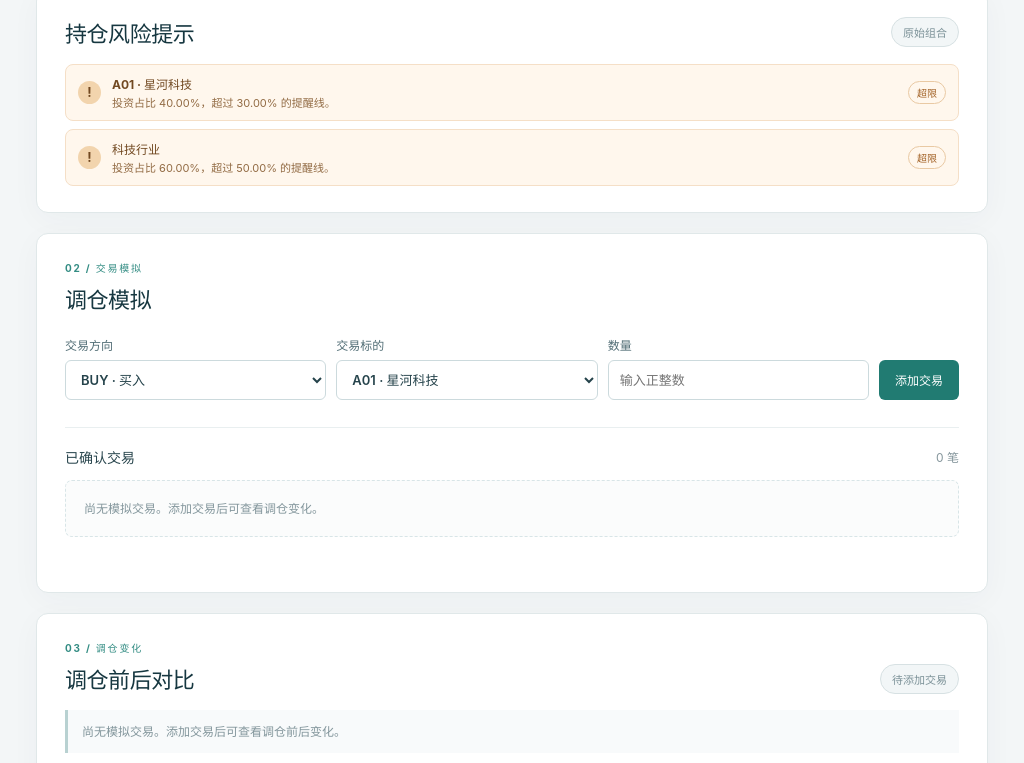
Test case: front-end state flow › refreshes duplicate-name plans and opens a read-only recalculated result
The width and height of the screenshot is (1024, 763).
(page scrolled)
Select "SELL · 卖出" in the dropdown labelled "交易方向" at (196, 380), box [65,360,326,400]
Type "100" into the number field labelled "数量" at (738, 380), box [608,360,869,400]
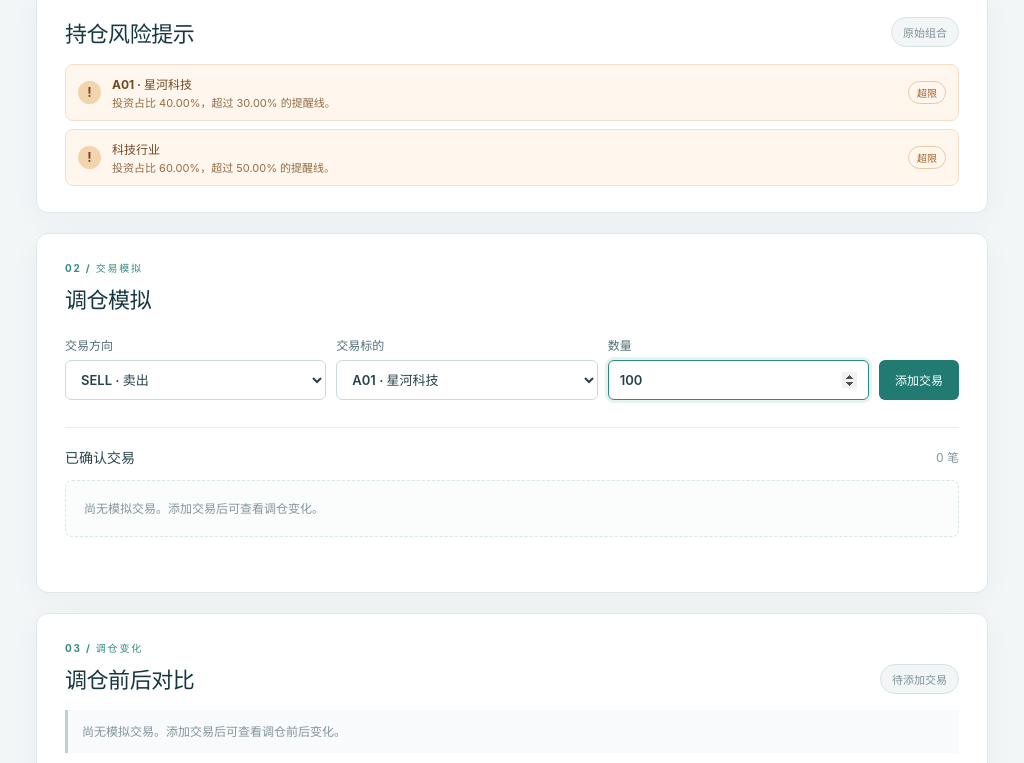
Click the button "添加交易" at (919, 380), box [879,360,959,400]
(page scrolled)
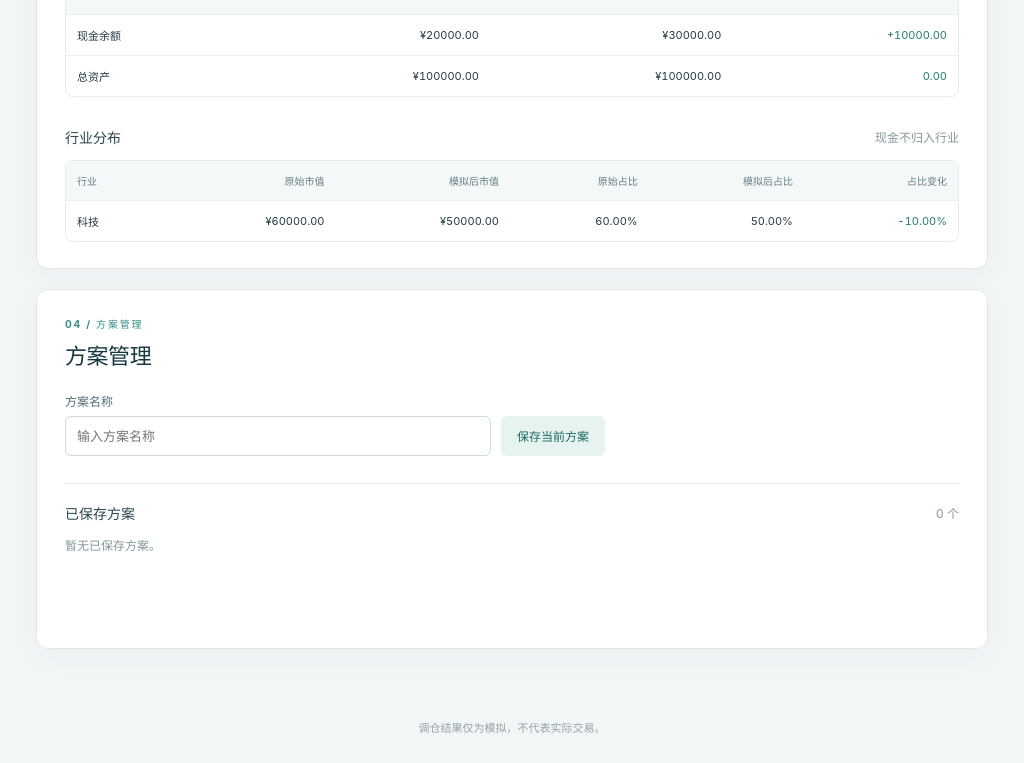
Type "调仓方案" into the field labelled "方案名称" at (278, 436), box [65,416,491,456]
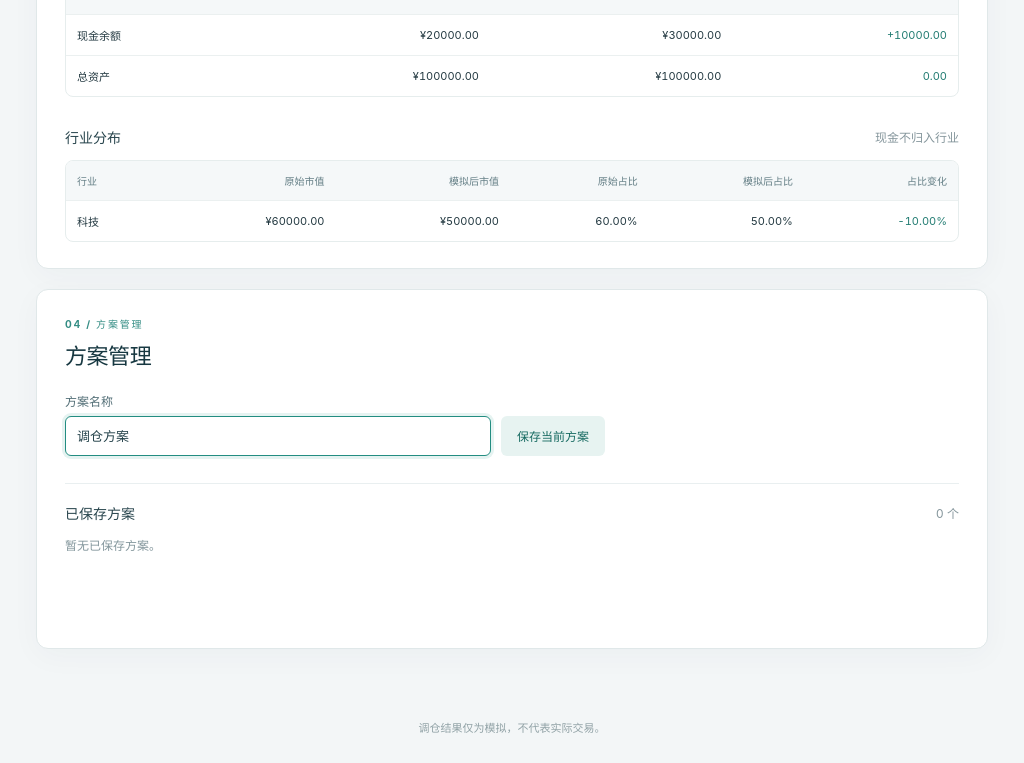
Click the button "保存当前方案" at (553, 436), box [501,416,605,456]
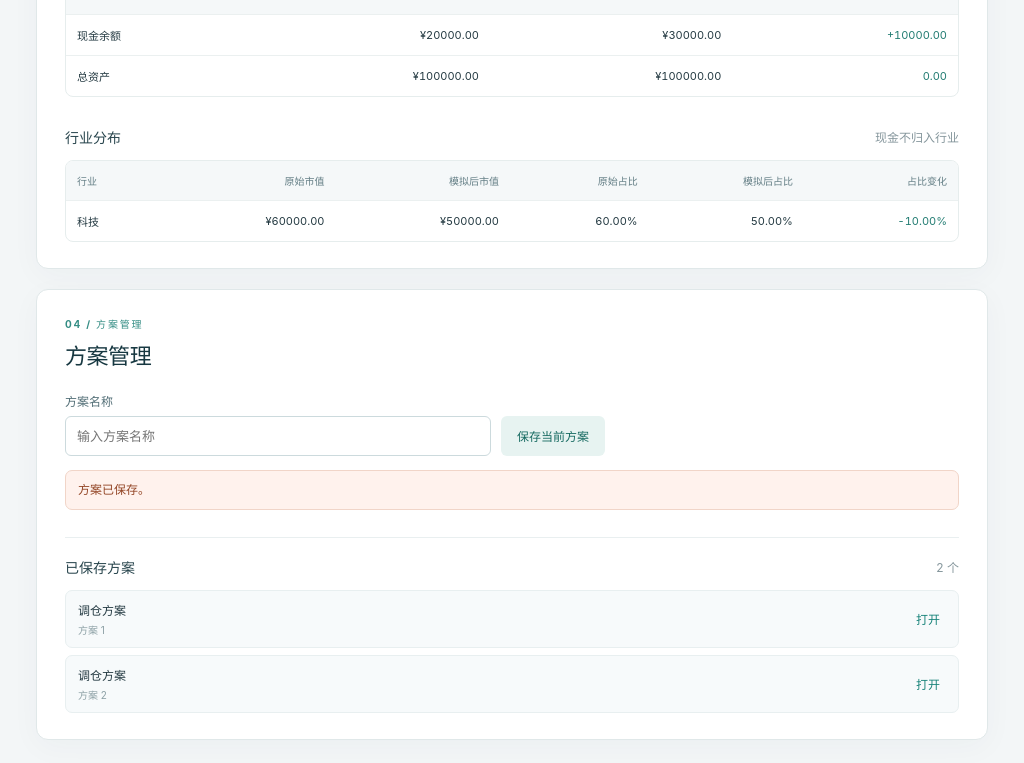
Now the text "方案已保存。" is shown, box [65,470,959,510]
Now the text "调仓方案" is shown 2 times, box [78,601,126,618]; [78,666,126,683]
Now the text "方案 1" is shown, box [78,624,105,636]
Click the 1st button "打开" at (928, 619), box [910,604,946,634]
(page scrolled)
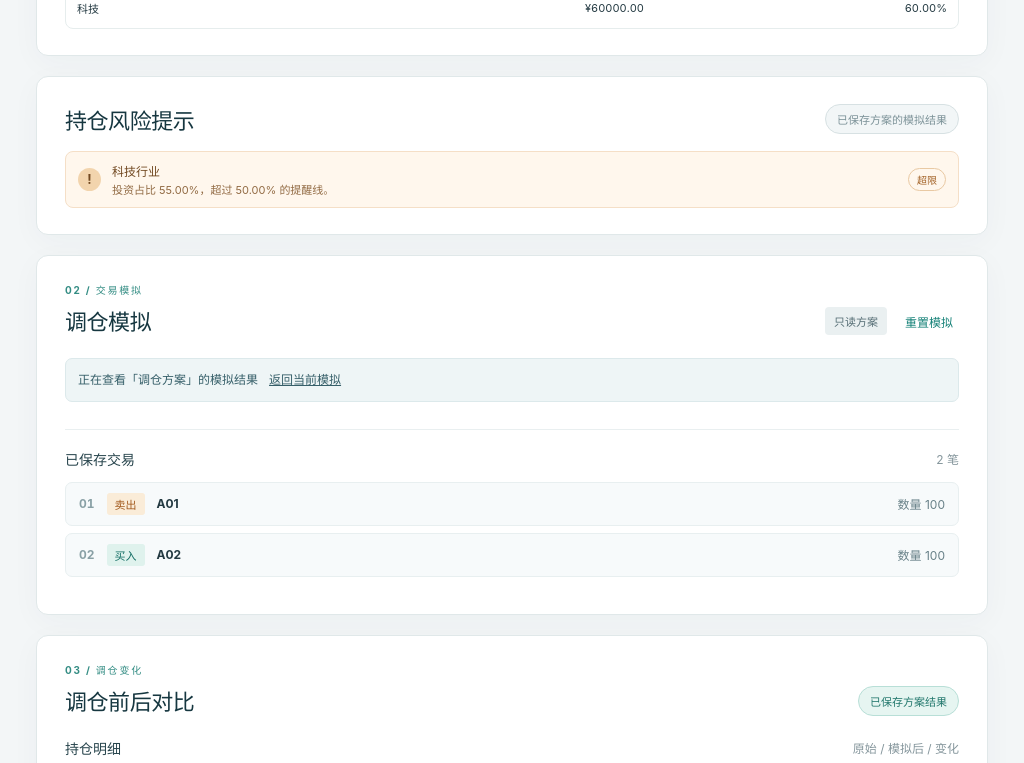
Now the text "只读方案" is shown, box [825,307,887,335]
Now the text "超限" is shown once, box [908,168,946,191]
Now the text "科技行业" is shown, box [112,164,160,179]
Click the button "返回当前模拟" at (305, 380), box [266,369,344,391]
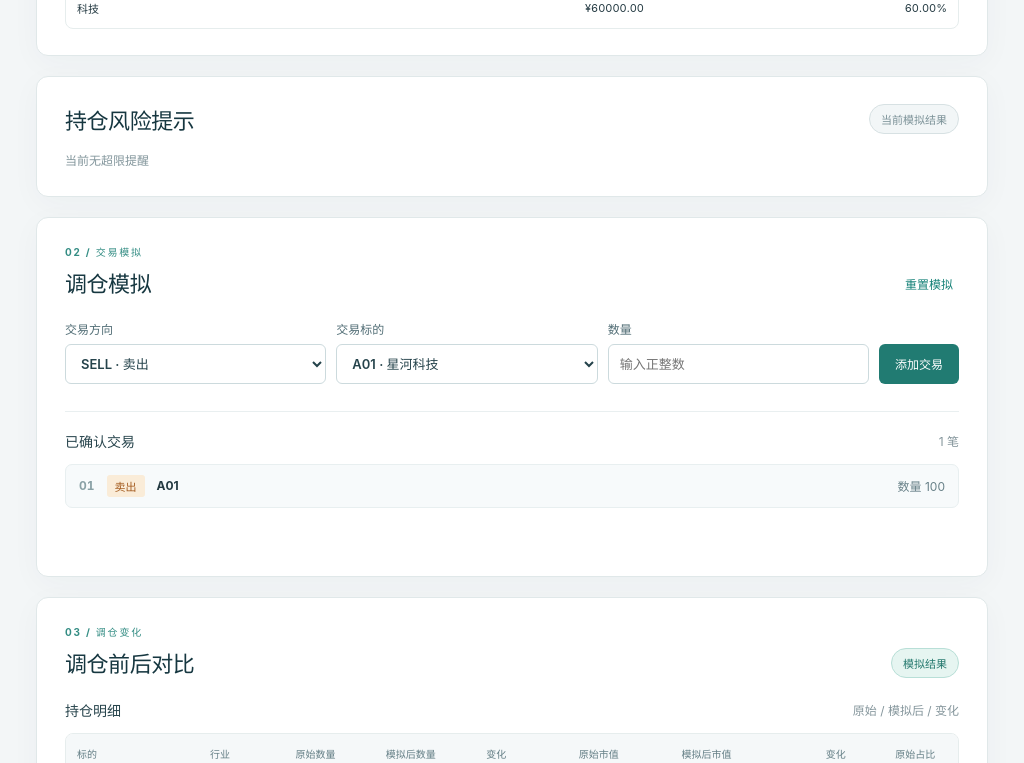
Now the button "添加交易" is shown, box [879,344,959,384]
Now the text "1 笔" is shown, box [939,432,959,450]
Now the text "当前无超限提醒" is shown, box [65,153,149,168]
